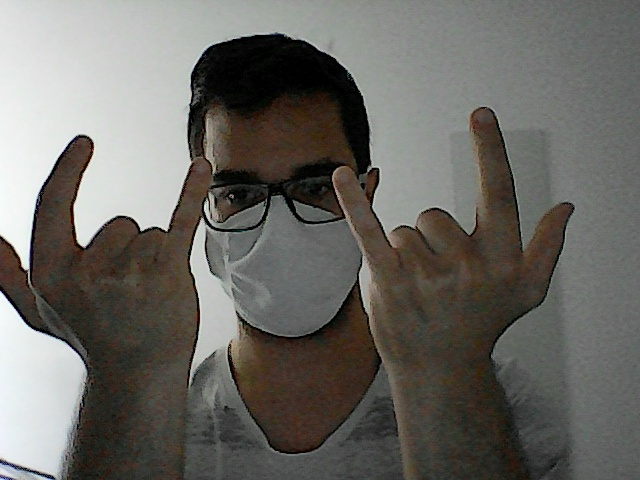shoot: (328, 100, 582, 346), (1, 125, 230, 355)
